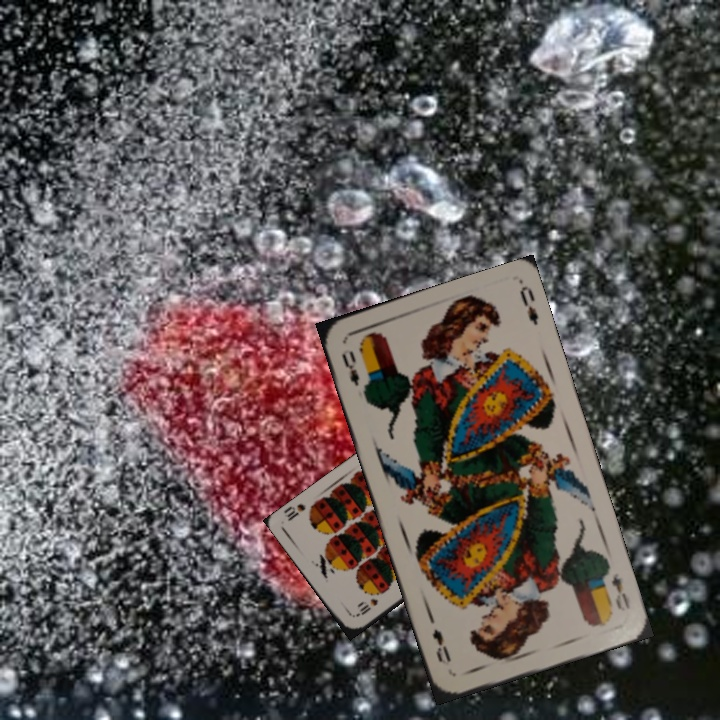EO: (337, 346, 370, 396), (607, 569, 633, 614)
S10: (352, 594, 381, 619)
